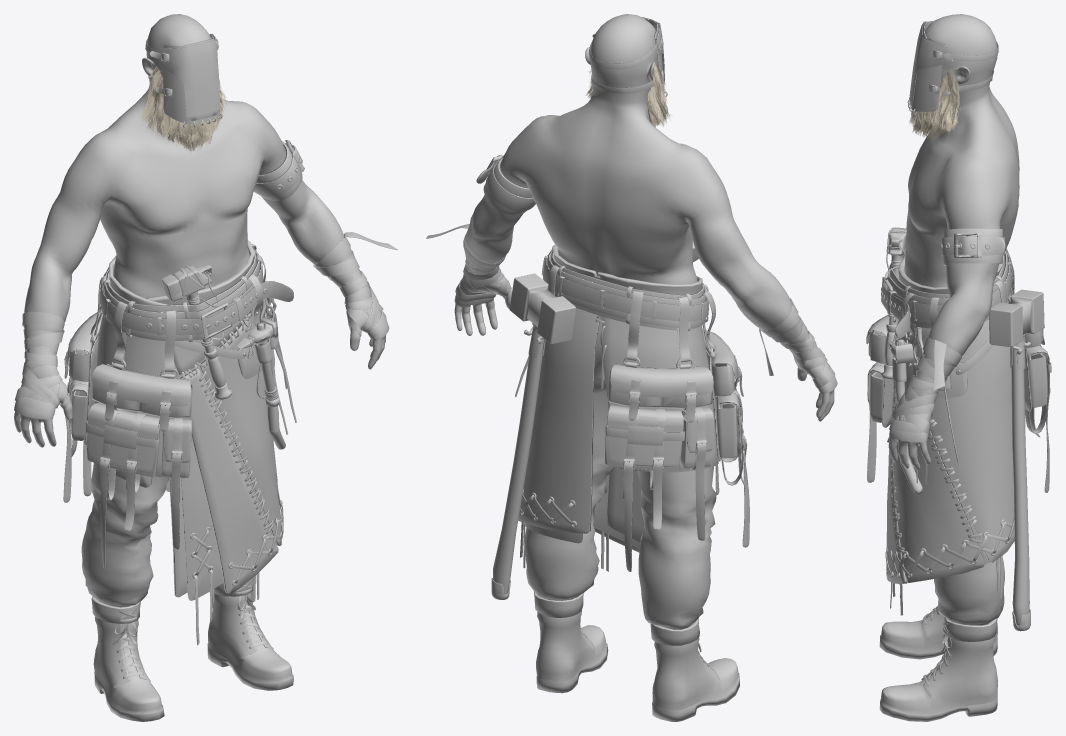
The picture shows the model from 3 angles, left to right: view 1: azimuth 30°, elevation 25°; view 2: azimuth 150°, elevation 25°; view 3: azimuth 270°, elevation 25°; orthographic projection. The views are drawn at different scales.
Parts seen in each view (by area): view 1: BS_Cloth1, BS_Body1, Bs_Beard_Hair04; view 2: BS_Cloth1, BS_Body1, Long_hammer_low1, Bs_Beard_Hair04; view 3: BS_Cloth1, BS_Body1, Long_hammer_low1, Bs_Beard_Hair04.
Boxes of the visible parts, x1,y1,x2,y2 form: BS_Cloth1: (14, 34, 397, 721); BS_Body1: (14, 14, 385, 447); Bs_Beard_Hair04: (141, 66, 227, 152); BS_Cloth1: (426, 17, 837, 721); BS_Body1: (454, 14, 834, 421); Long_hammer_low1: (491, 273, 576, 599); Bs_Beard_Hair04: (586, 62, 672, 127); BS_Cloth1: (866, 21, 1051, 721); BS_Body1: (888, 14, 1019, 470); Long_hammer_low1: (989, 289, 1044, 631); Bs_Beard_Hair04: (909, 69, 960, 139).
Bounding box in the file's own units: 1.07 × 1.74 × 0.439.
